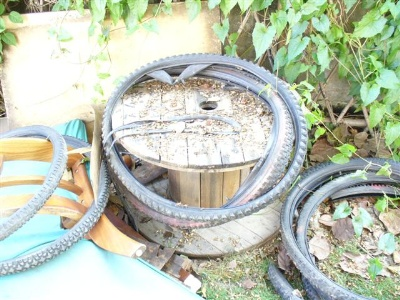tire: (101, 51, 310, 222), (278, 156, 400, 300), (1, 124, 68, 242)
